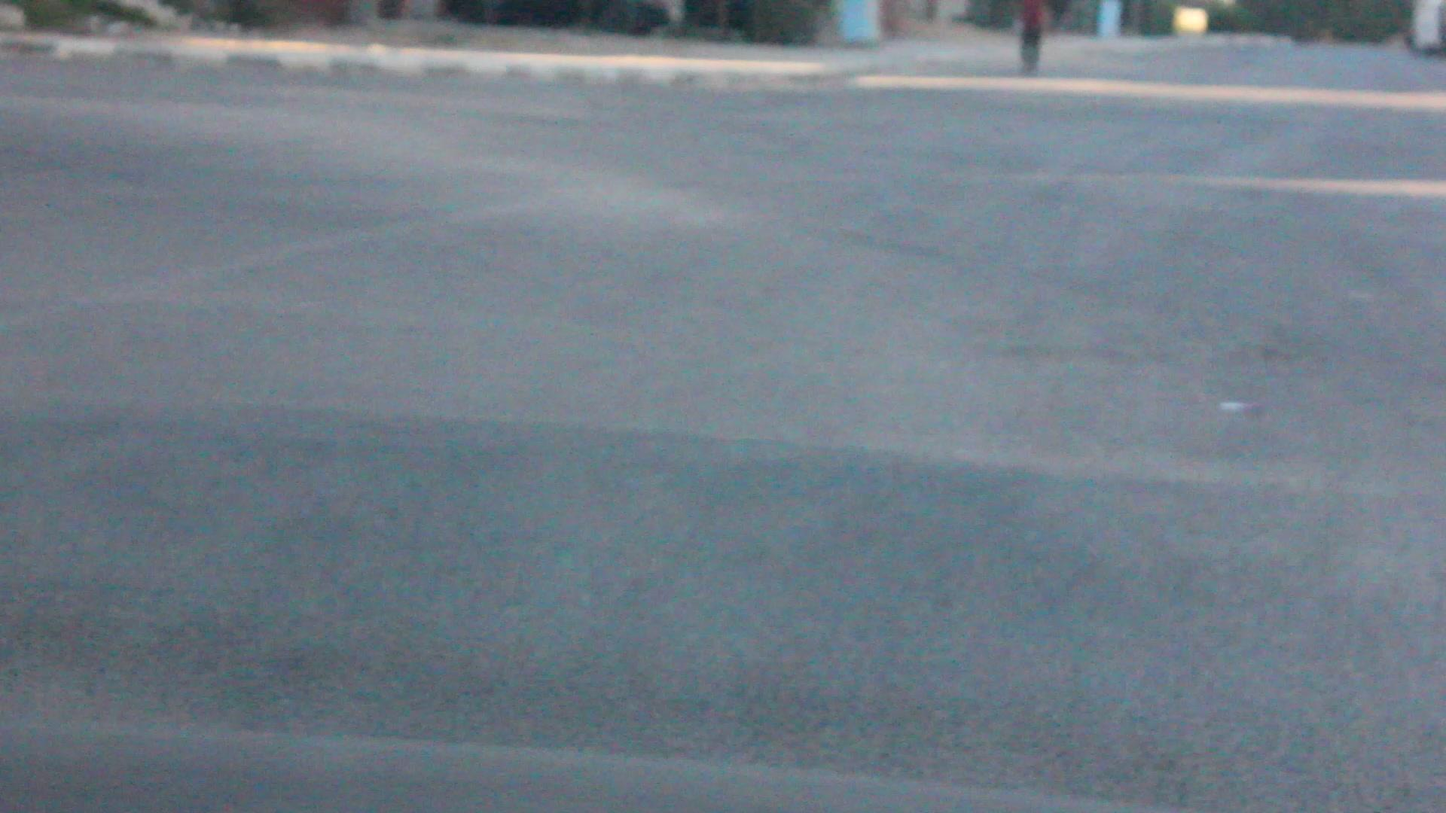Bump: (9, 403, 1446, 792)
